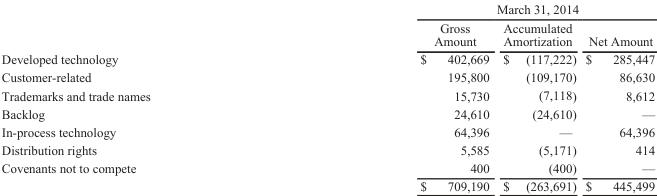table: (0, 1, 654, 192)
table column: (0, 1, 284, 192), (284, 1, 495, 192), (495, 1, 580, 192), (580, 1, 654, 192)
table column header: (0, 1, 654, 49)
table row: (0, 18, 654, 49), (0, 49, 654, 68), (0, 68, 654, 86), (0, 86, 654, 104), (0, 104, 654, 122), (0, 122, 654, 140), (0, 140, 654, 158), (0, 158, 654, 176), (0, 1, 654, 18), (0, 176, 654, 192)
table spanning cell: (284, 1, 654, 18)
